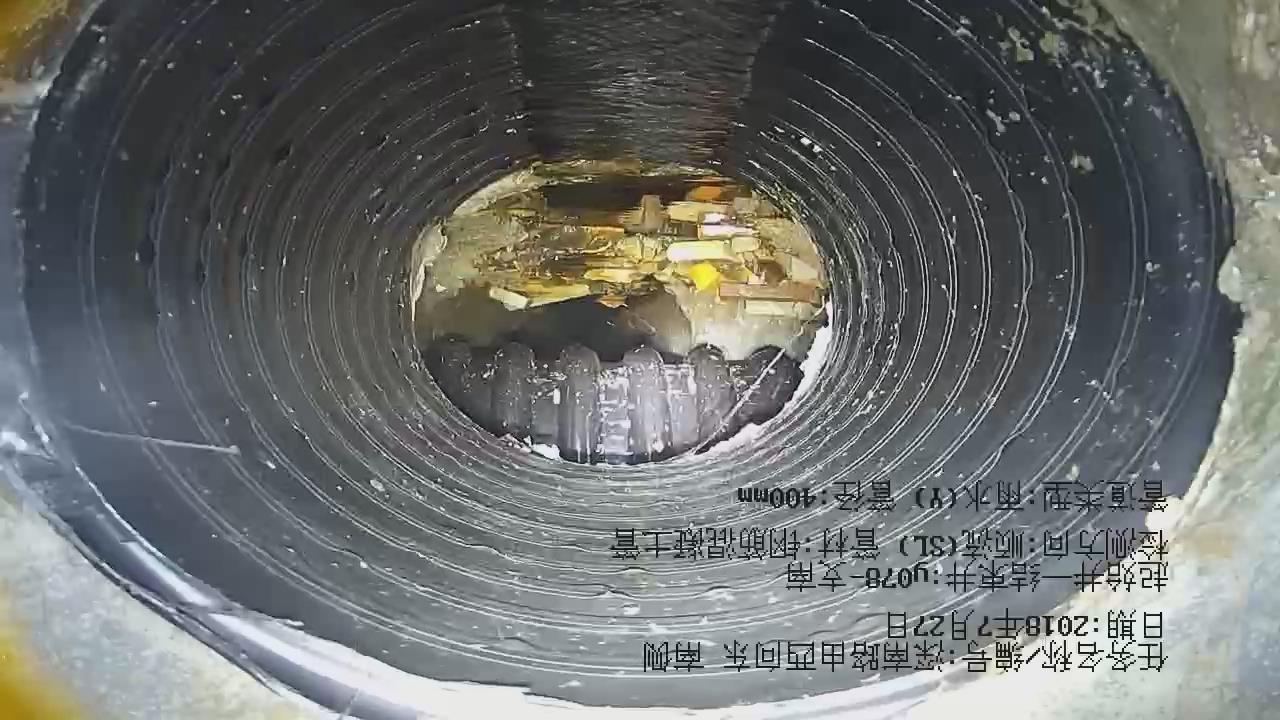YWCR: (424, 341, 804, 466)
